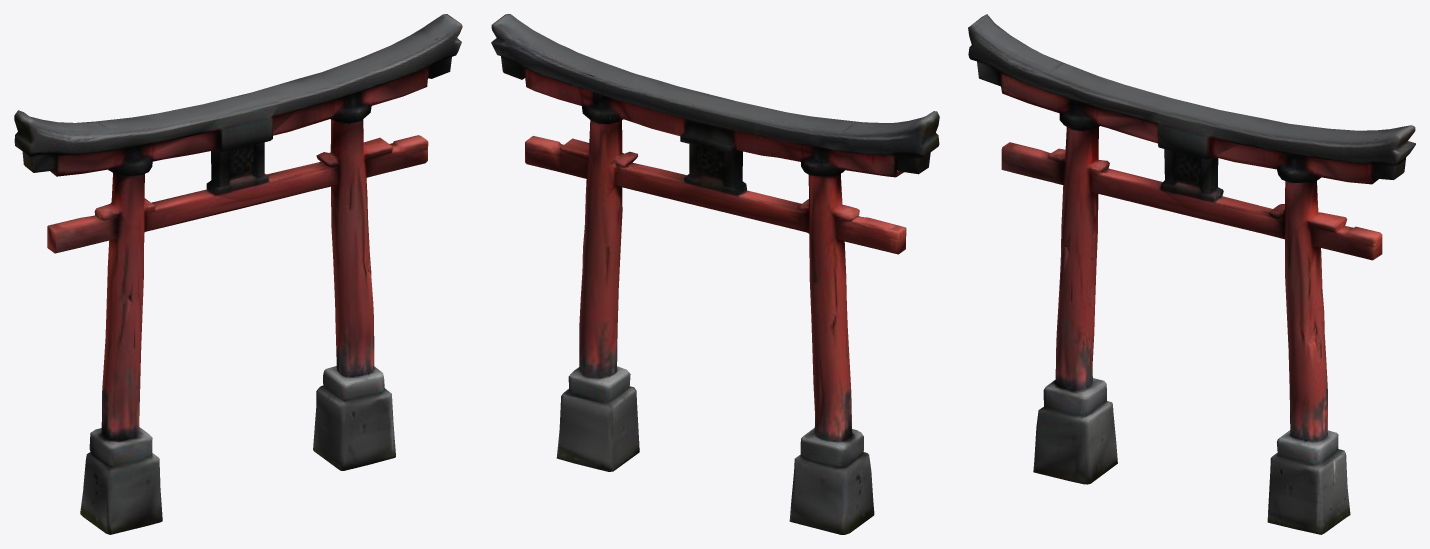
Rendered from torii_gate.glb.
The picture shows the model from 3 angles, left to right: view 1: azimuth 30°, elevation 25°; view 2: azimuth 150°, elevation 25°; view 3: azimuth 330°, elevation 25°; orthographic projection.
Parts seen in each view (by area): view 1: torii_gate; view 2: torii_gate; view 3: torii_gate.
Part boxes in pixels (x1,y1,x2,y2): torii_gate: (14, 14, 462, 534); torii_gate: (491, 14, 939, 534); torii_gate: (968, 14, 1415, 534).
Bounding box in the file's own units: 6.4 × 6 × 0.8017.
1 material, 1 textured.
